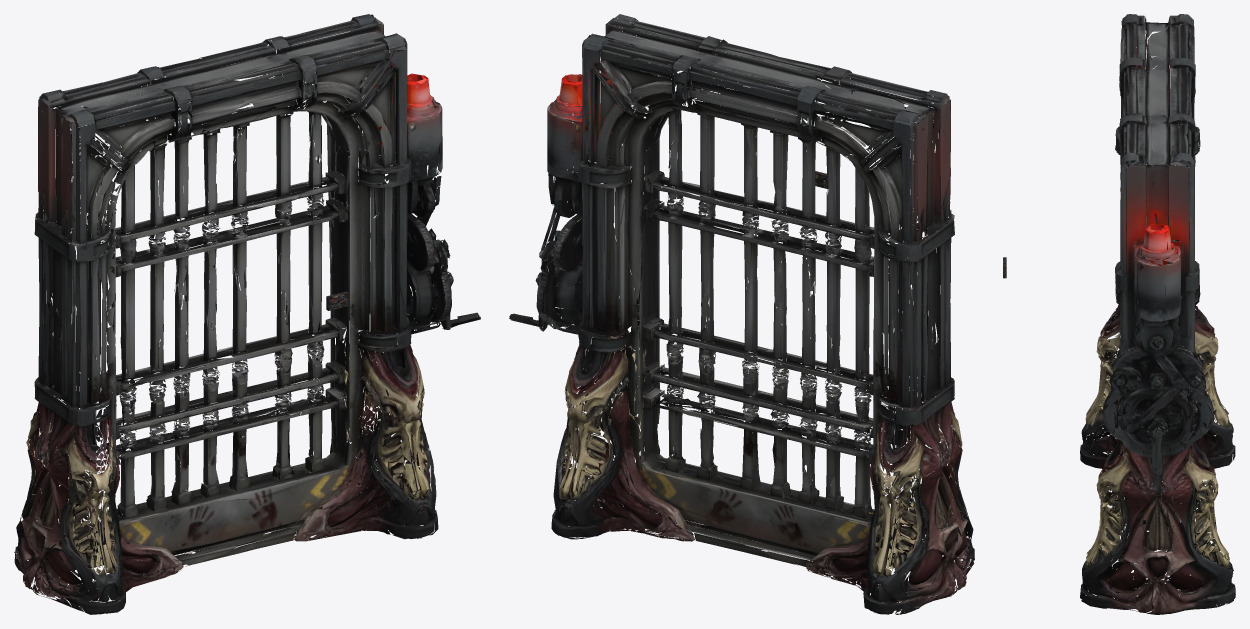
Rendered from chen_holding_cell_shock_gate.glb.
3 views of the same model, side by side, from view 1: azimuth 30°, elevation 25°; view 2: azimuth 150°, elevation 25°; view 3: azimuth 270°, elevation 25° (orthographic). The views are drawn at different scales.
Visible parts, largest first — view 1: node_0; view 2: node_0; view 3: node_0.
Boxes of the visible parts, x1,y1,x2,y2 form: node_0: (14,14,480,614); node_0: (509,14,974,614); node_0: (1080,14,1235,614).
Bounding box in the file's own units: 0.8427 × 0.8628 × 0.4129.
1 material, 1 textured.
